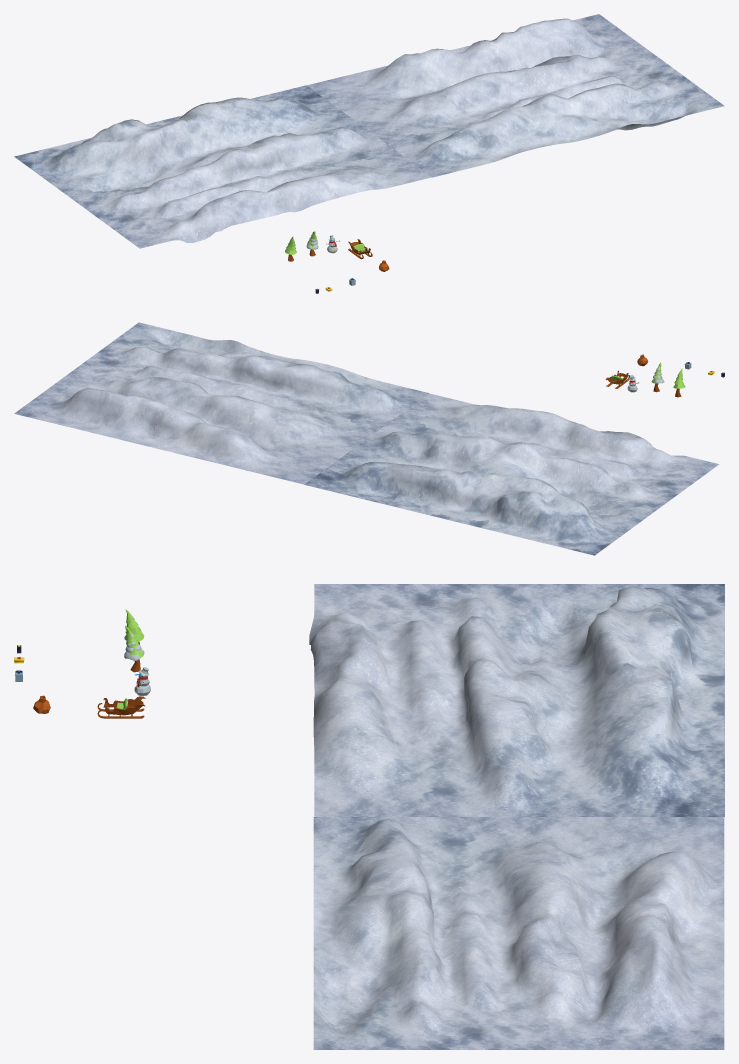
The model's file is snow environment01.fbx.
3 views of the same model, one above another, from view 1: azimuth 30°, elevation 25°; view 2: azimuth 150°, elevation 25°; view 3: azimuth 270°, elevation 25° (orthographic). The views are drawn at different scales.
Parts seen in each view (by area): view 1: Plane; view 2: Plane; view 3: Plane, Sleigh_01_Sleigh_0.
Boxes of the visible parts, x1,y1,x2,y2 form: Plane: (14,14,724,248); Plane: (14,322,719,555); Plane: (309,584,724,1049); Sleigh_01_Sleigh_0: (97,696,145,718).
Bounding box in the file's own units: 177600 × 11648 × 114596.
Materials: 2 (2 with a texture image).
